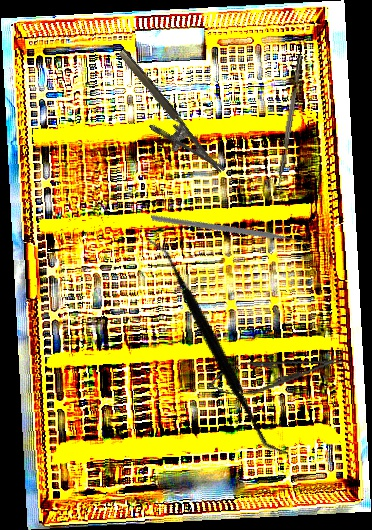Chopper: (150, 164, 310, 305), (274, 55, 310, 193)
Needle Holder: (101, 47, 225, 190), (204, 344, 346, 403)
Spatula Surgical: (85, 233, 349, 459)
